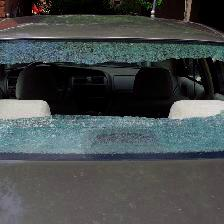glass_shatter: (1, 40, 223, 156)
